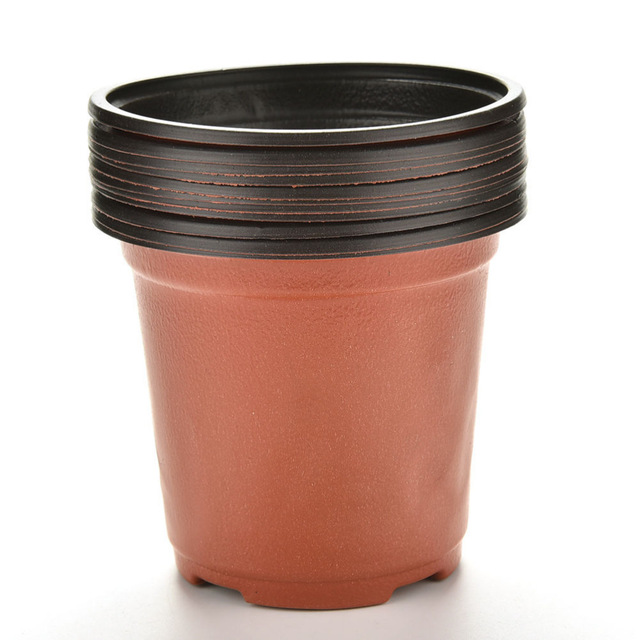Rec_Plastic: (66, 50, 522, 617)
